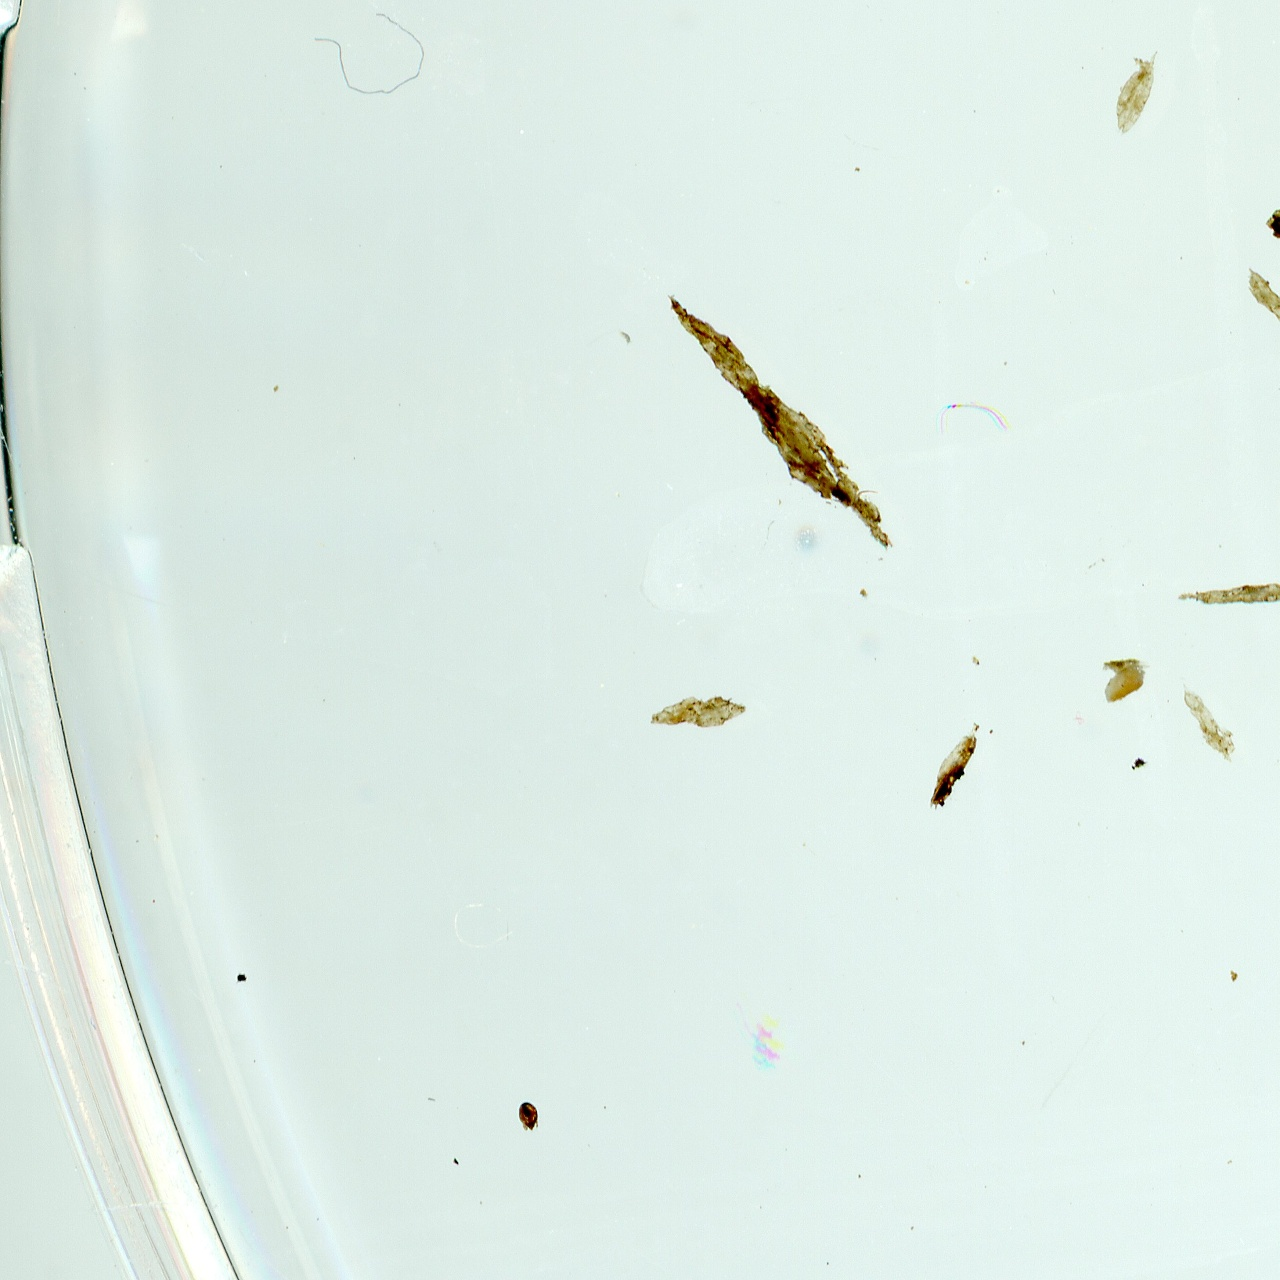arthropod: (518, 1101, 540, 1133)
